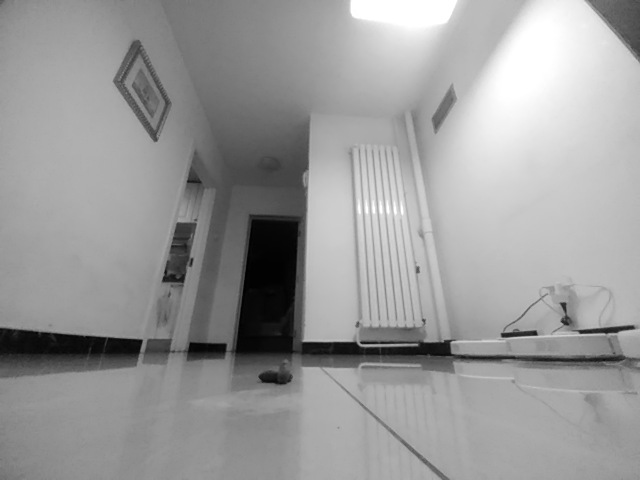pet feces: (258, 362, 294, 384)
